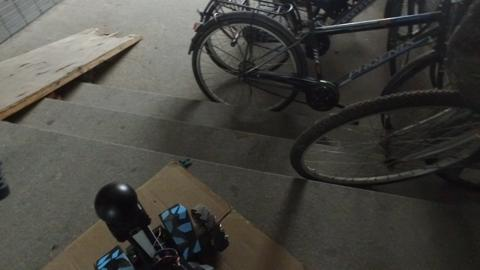bike: (181, 1, 473, 104)
chariot: (84, 178, 228, 270)
